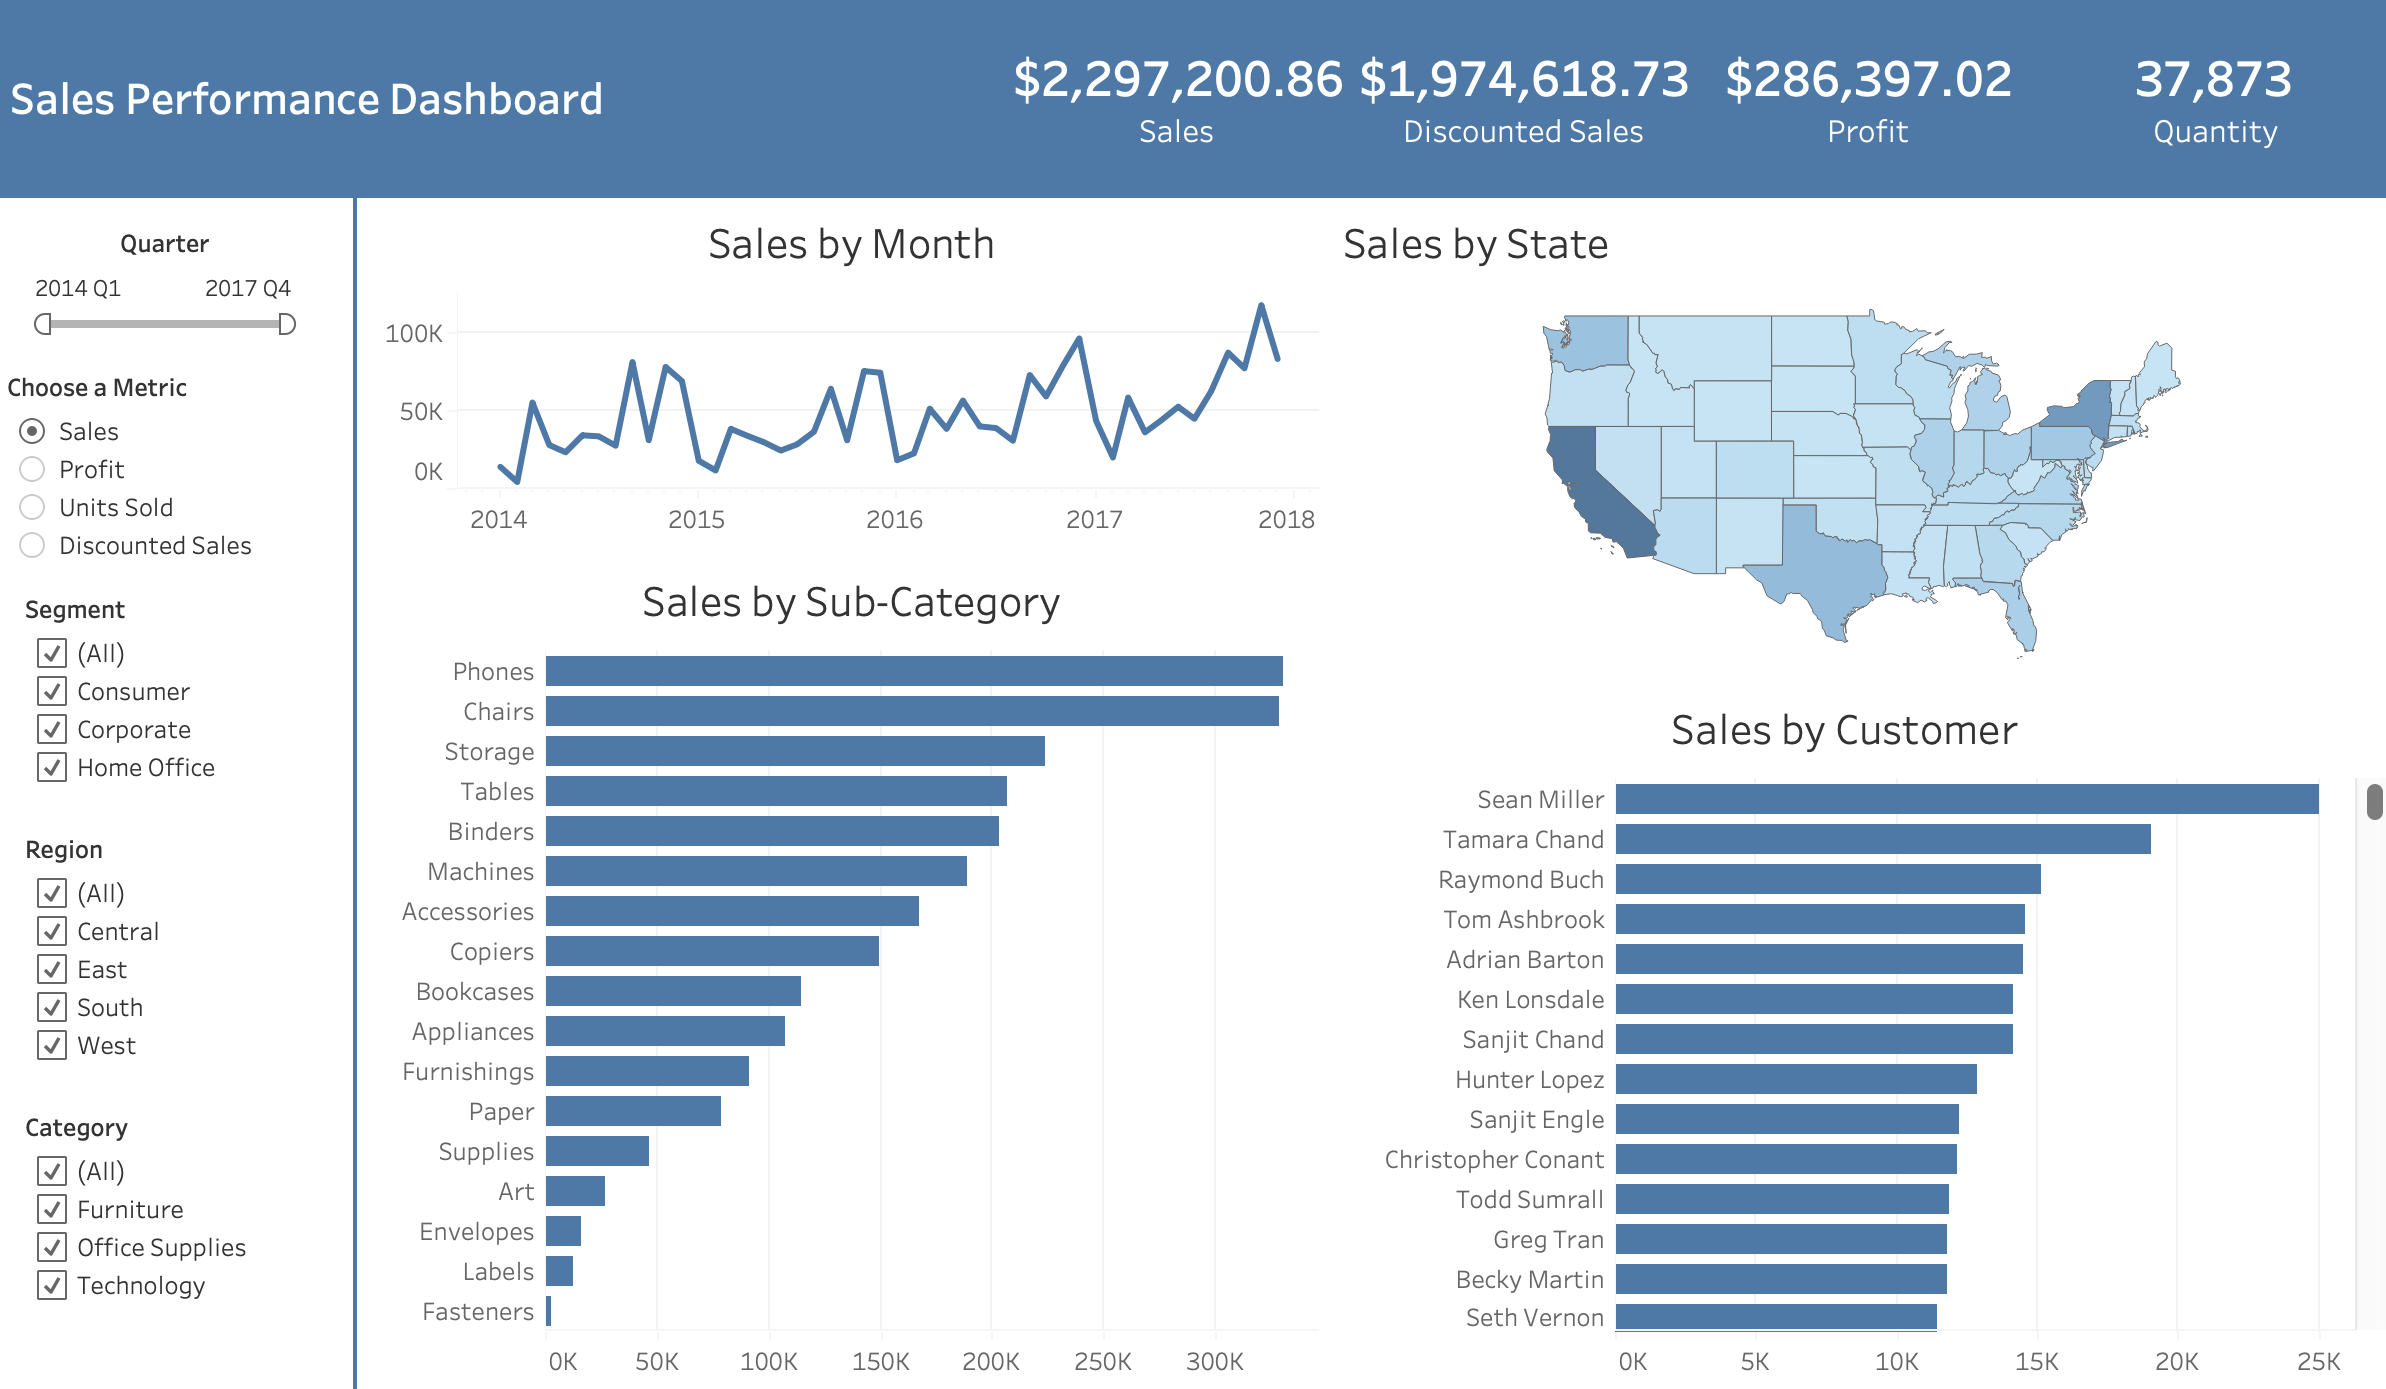

The page's visual inventory and layout, read from the dashboard file:
{"tool":"tableau","page":{"name":"Dashboard","canvas":[1200,700],"ordinal":0},"visuals":[{"type":"text","box":[0,0,500,100]},{"type":"worksheet","title":"BANS","mark":"Automatic","box":[500,0,700,100]},{"type":"blank","box":[168,100,22,600]},{"type":"worksheet","title":"Line","mark":"Automatic","rows":["Calculation_1167628639248007168"],"cols":["order_date"],"box":[190,100,475,179]},{"type":"worksheet","title":"Map","mark":"Automatic","box":[665,100,535,243]},{"type":"filter","title":"Map","param":"[federated.0tfuzda1a4fub91eatnkn0f01ve3].[tqr:order_date:qk]","box":[4,104,160,81]},{"type":"parameter","param":"[Parameters].[Parameter 1]","box":[4,185,160,102]},{"type":"worksheet","title":"Sub-Category","mark":"Automatic","rows":["sub_category"],"cols":["Calculation_1167628639248007168"],"box":[190,279,475,421]},{"type":"filter","title":"Map","param":"[federated.0tfuzda1a4fub91eatnkn0f01ve3].[none:segment:nk]","box":[4,287,160,120]},{"type":"worksheet","title":"Customer","mark":"Automatic","rows":["customer_name"],"cols":["Calculation_1167628639248007168"],"box":[665,343,535,357]},{"type":"filter","title":"Map","param":"[federated.0tfuzda1a4fub91eatnkn0f01ve3].[none:region:nk]","box":[4,407,160,139]},{"type":"filter","title":"Map","param":"[federated.0tfuzda1a4fub91eatnkn0f01ve3].[none:category:nk]","box":[4,546,160,120]}]}

Visuals, with their boxes in screenshot pixels (x1, y1, x2, y2), scaled from the page's 1200x700 canvas onto the 2386x1389 screenshot:
text: BBox(0, 0, 994, 198)
"BANS" worksheet: BBox(994, 0, 2385, 198)
blank: BBox(334, 198, 378, 1388)
"Line" worksheet: BBox(378, 198, 1322, 554)
"Map" worksheet: BBox(1322, 198, 2385, 681)
"Map" filter: BBox(8, 206, 326, 367)
parameter: BBox(8, 367, 326, 569)
"Sub-Category" worksheet: BBox(378, 554, 1322, 1388)
"Map" filter: BBox(8, 569, 326, 808)
"Customer" worksheet: BBox(1322, 681, 2385, 1388)
"Map" filter: BBox(8, 808, 326, 1083)
"Map" filter: BBox(8, 1083, 326, 1322)
